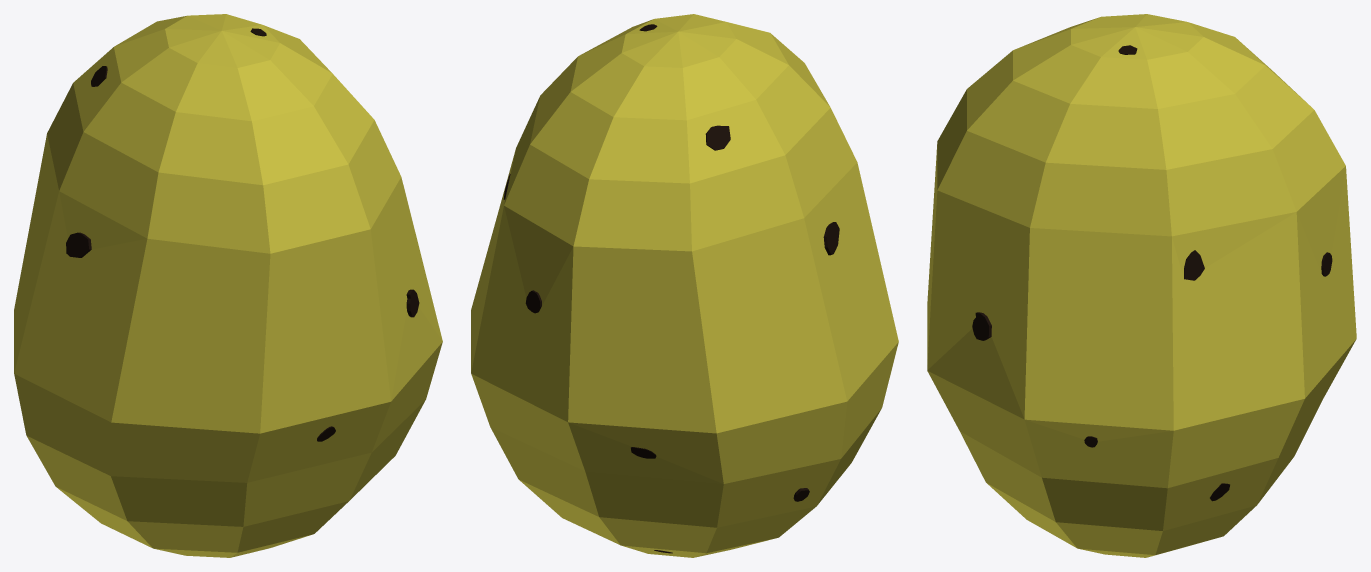
Rendered from Item_RawPotato.fbx.
3 views of the same model, side by side, from view 1: azimuth 30°, elevation 25°; view 2: azimuth 150°, elevation 25°; view 3: azimuth 270°, elevation 25° (orthographic).
Visible parts, largest first — view 1: Sphere; view 2: Sphere; view 3: Sphere.
Boxes of the visible parts, x1,y1,x2,y2 form: Sphere: (14, 14, 442, 557); Sphere: (471, 14, 898, 557); Sphere: (927, 14, 1356, 557).
Bounding box in the file's own units: 197 × 255 × 194.
